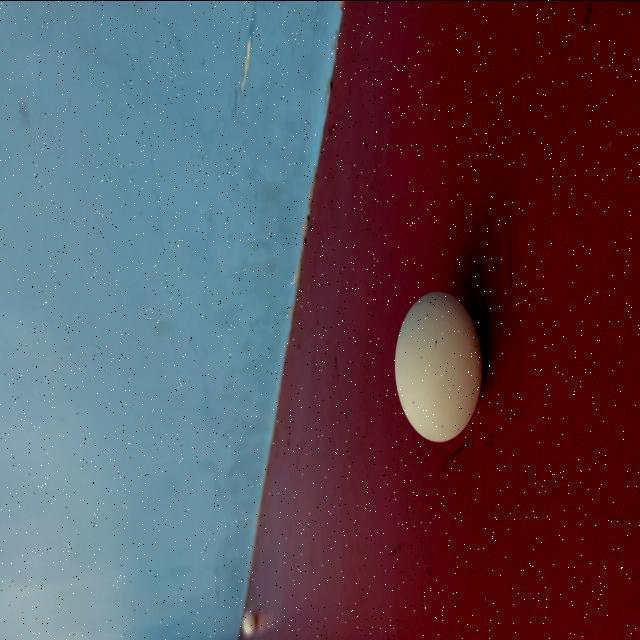ping-pong-ball: (382, 244, 508, 472), (234, 590, 267, 640)
